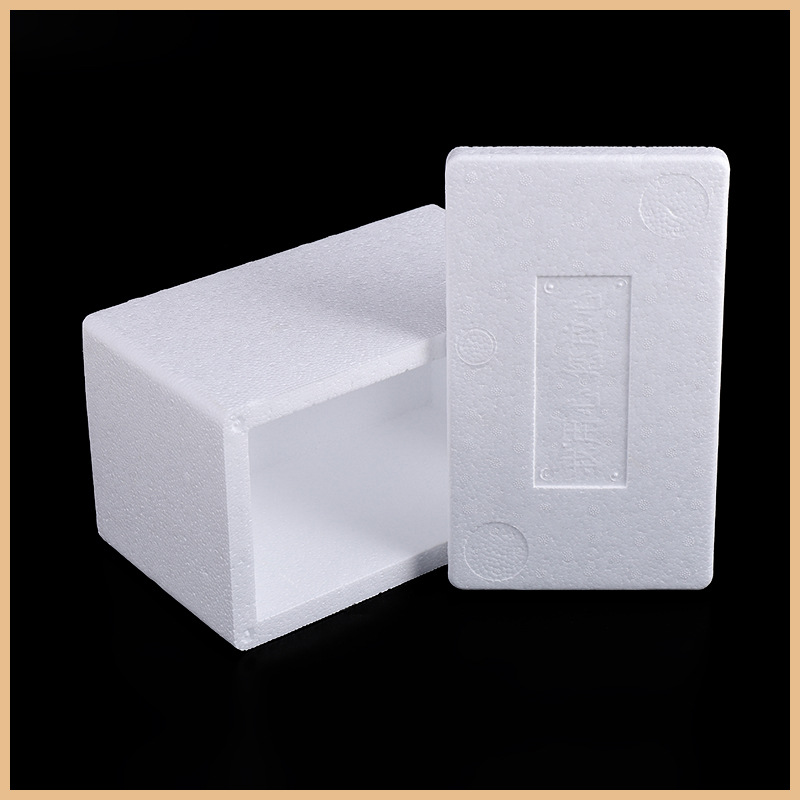泡沫箱: (82, 147, 730, 649)
